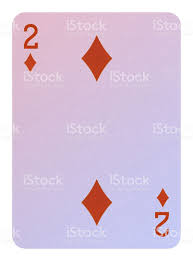two of diamonds: (13, 11, 180, 247)
